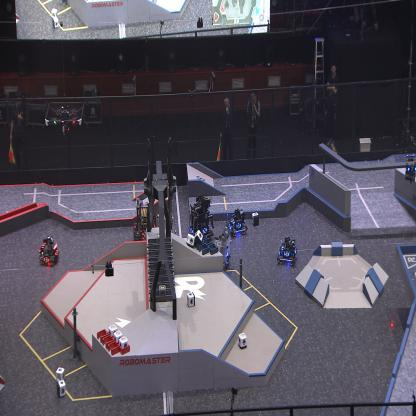car: (187, 196, 215, 242), (133, 198, 155, 242), (212, 228, 232, 274), (154, 207, 176, 242), (38, 234, 60, 266), (276, 235, 298, 264), (225, 208, 247, 236)
